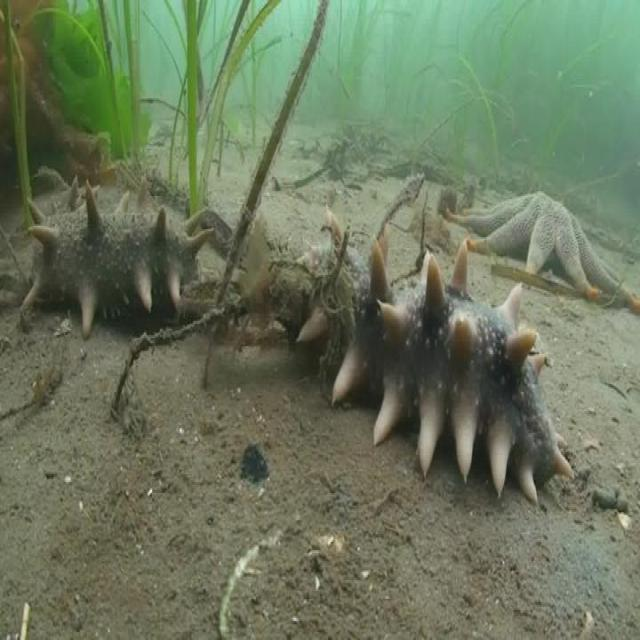holothurian: (273, 208, 571, 508), (17, 180, 215, 340)
scallop: (220, 534, 286, 640)
